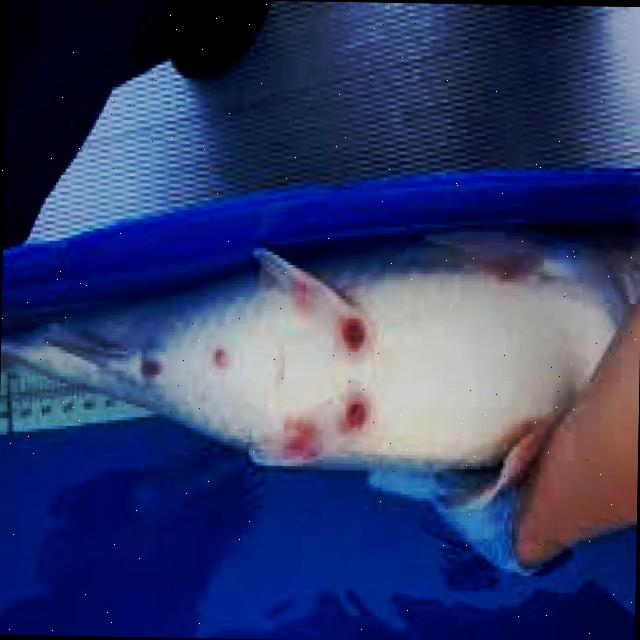Epizootic Ulcerative Syndrome -EUS-: (0, 227, 640, 492)
